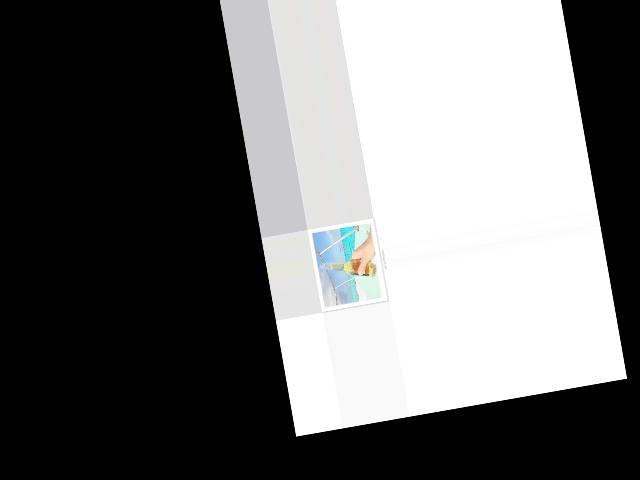beer: (320, 251, 377, 285)
